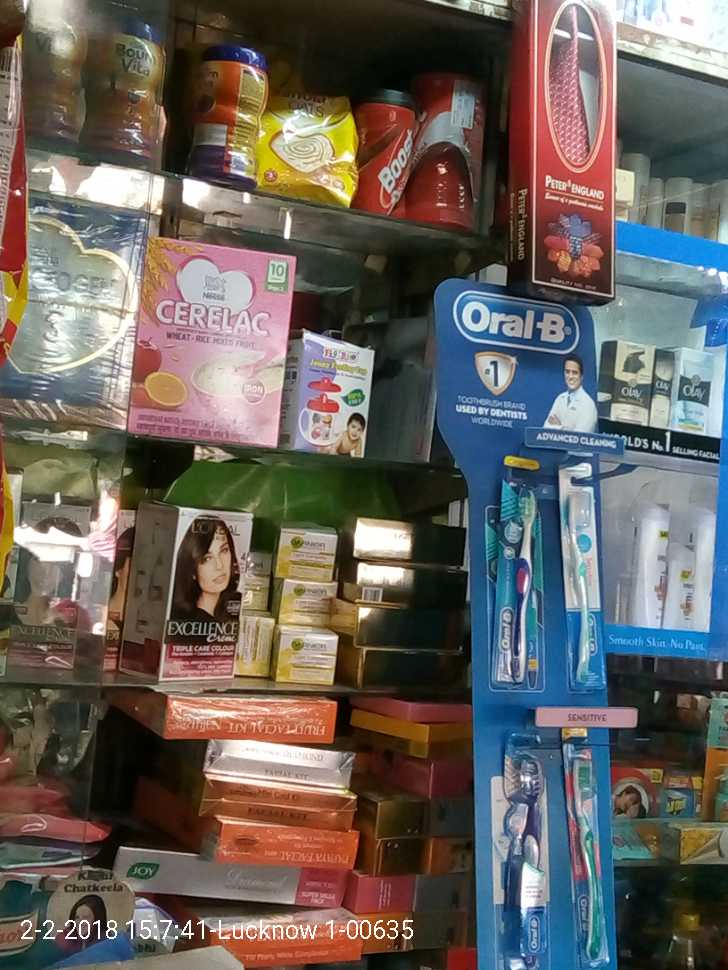beauty: (599, 339, 650, 428), (629, 500, 662, 631), (676, 346, 713, 434), (664, 540, 699, 633), (652, 343, 675, 434)
pharmacy: (558, 729, 611, 965), (555, 458, 606, 687), (503, 733, 549, 970), (494, 456, 540, 690)
